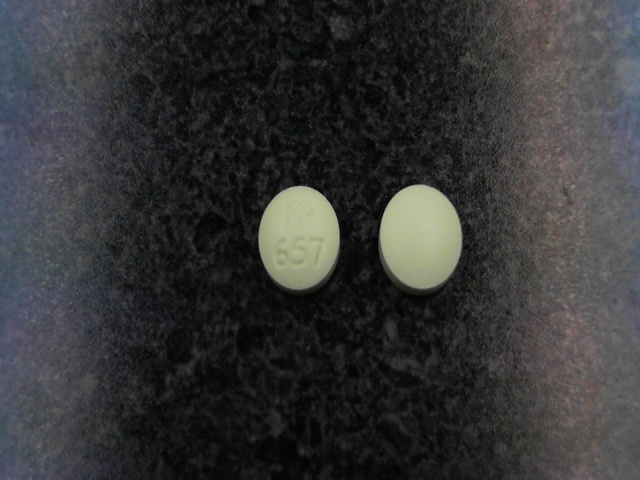5: (290, 233, 309, 270)
6: (273, 231, 289, 268)
7: (309, 234, 329, 268)
M: (280, 197, 305, 231)
